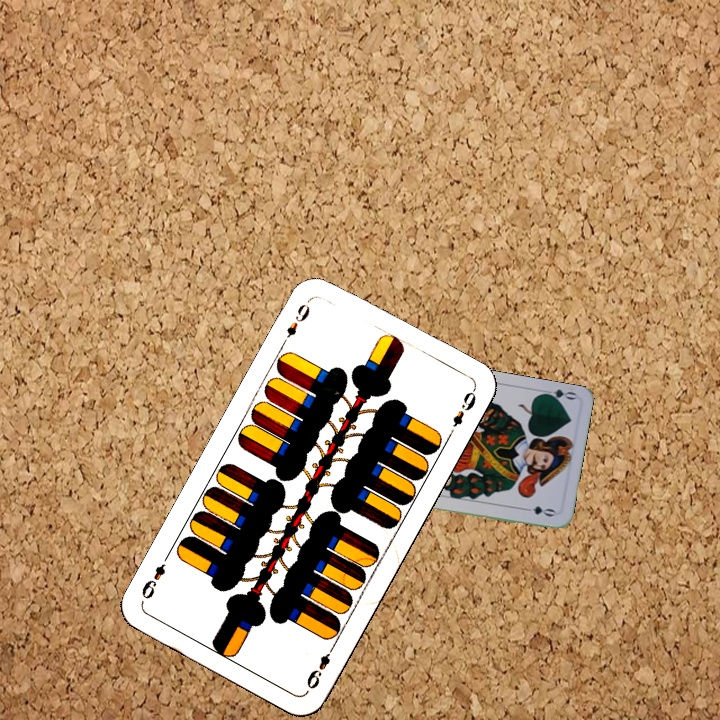E9: (277, 295, 313, 349), (302, 640, 338, 692)
GO: (537, 385, 578, 405)
